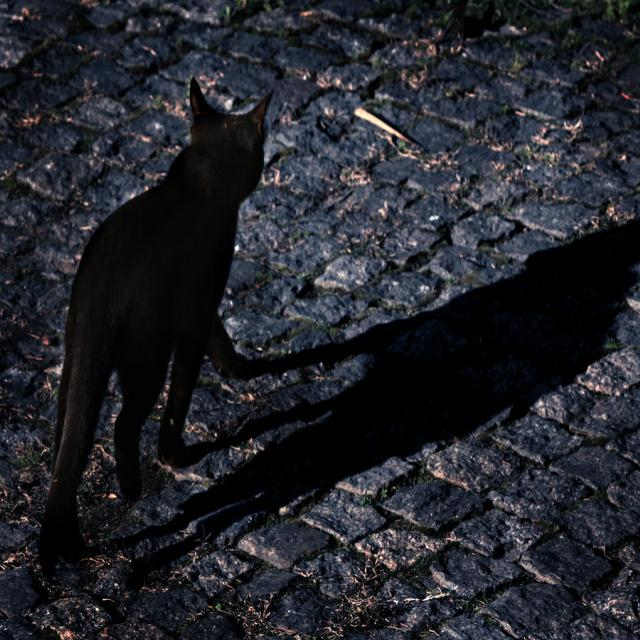Cat: (36, 80, 288, 570)
